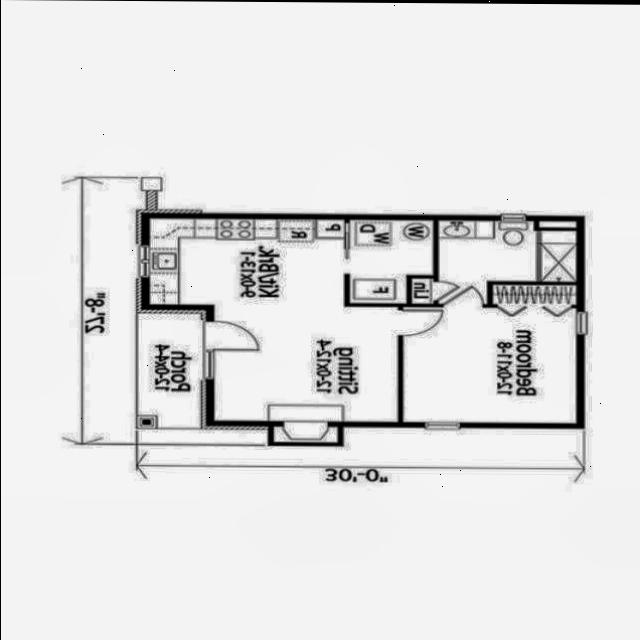room: (148, 218, 398, 422), (403, 285, 576, 422), (437, 221, 575, 282), (349, 220, 432, 303), (438, 283, 487, 304), (272, 427, 336, 443), (410, 278, 433, 304), (538, 221, 576, 228)
